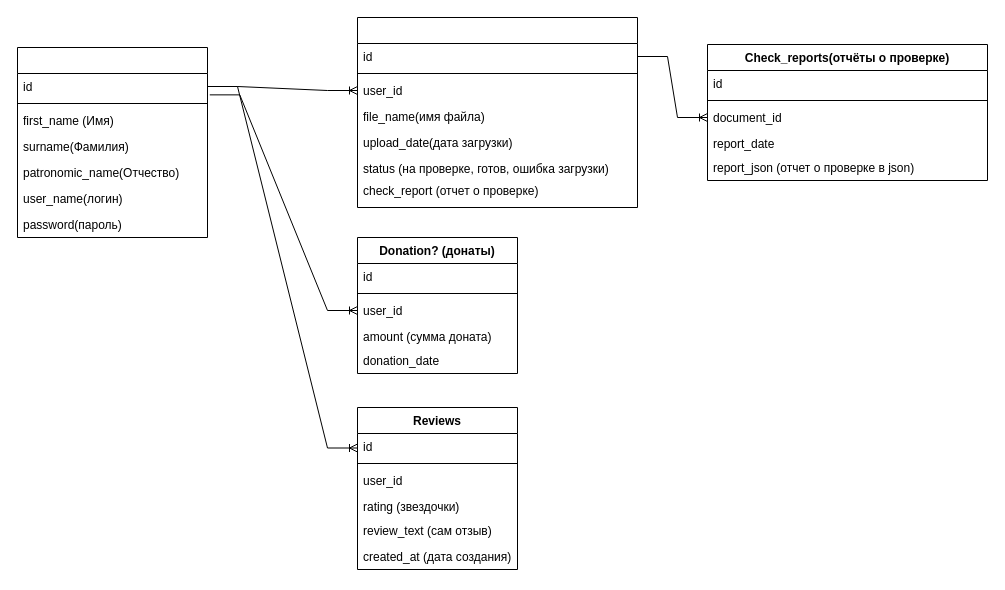
Image size: 1005x590. Some labels were removed from this diagram. The shapes that lost their labels are listed below. From the top down, each one's box as (x1, y1, x2, y2) in pixels, then its label:
(356, 16, 638, 208): Documents(Доки)
(16, 46, 208, 238): Users(пользователи)
